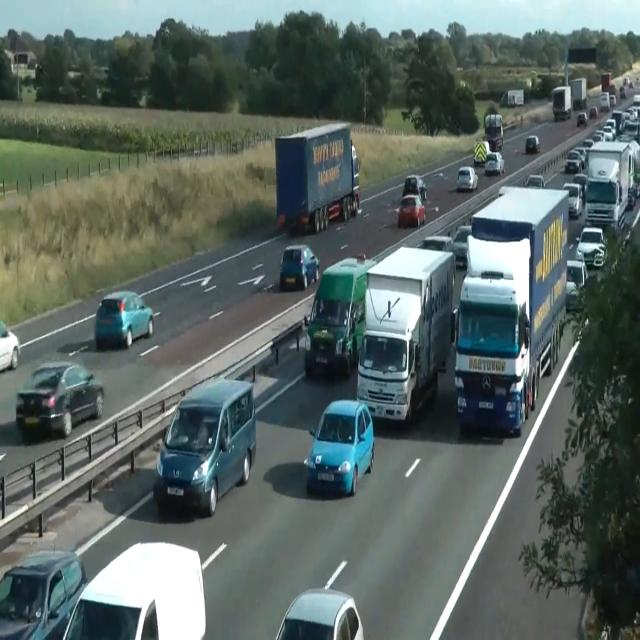bus: (62, 541, 206, 639), (0, 548, 88, 639), (275, 560, 365, 639), (304, 398, 374, 496), (16, 361, 104, 438), (94, 290, 154, 349), (415, 234, 456, 284), (279, 243, 320, 290), (576, 225, 608, 268), (565, 259, 588, 312), (0, 320, 20, 372), (396, 194, 426, 228), (452, 225, 472, 267), (563, 181, 583, 219), (416, 235, 454, 253), (402, 174, 426, 202), (565, 280, 583, 312), (457, 165, 478, 191), (484, 151, 505, 175), (564, 150, 582, 172), (573, 173, 587, 201), (525, 134, 540, 153), (525, 174, 545, 188), (327, 202, 339, 220), (600, 92, 610, 111), (627, 187, 635, 209), (577, 111, 587, 126), (589, 106, 597, 118), (623, 76, 631, 88), (620, 85, 626, 99), (610, 93, 616, 107)
car: (451, 270, 531, 438)
jeep: (152, 375, 256, 517)
minibus: (452, 185, 570, 436), (355, 245, 455, 427), (274, 121, 360, 235), (303, 252, 377, 378), (583, 139, 639, 232), (483, 112, 503, 151), (552, 85, 572, 121), (569, 78, 587, 110), (351, 142, 359, 214), (600, 72, 616, 105), (499, 89, 524, 107)
